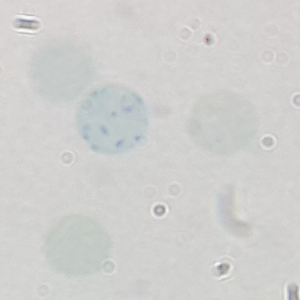aggregate reticulocyte: (73, 82, 151, 158)
erythrocyte: (185, 87, 262, 158), (41, 211, 113, 278), (27, 36, 96, 104)
